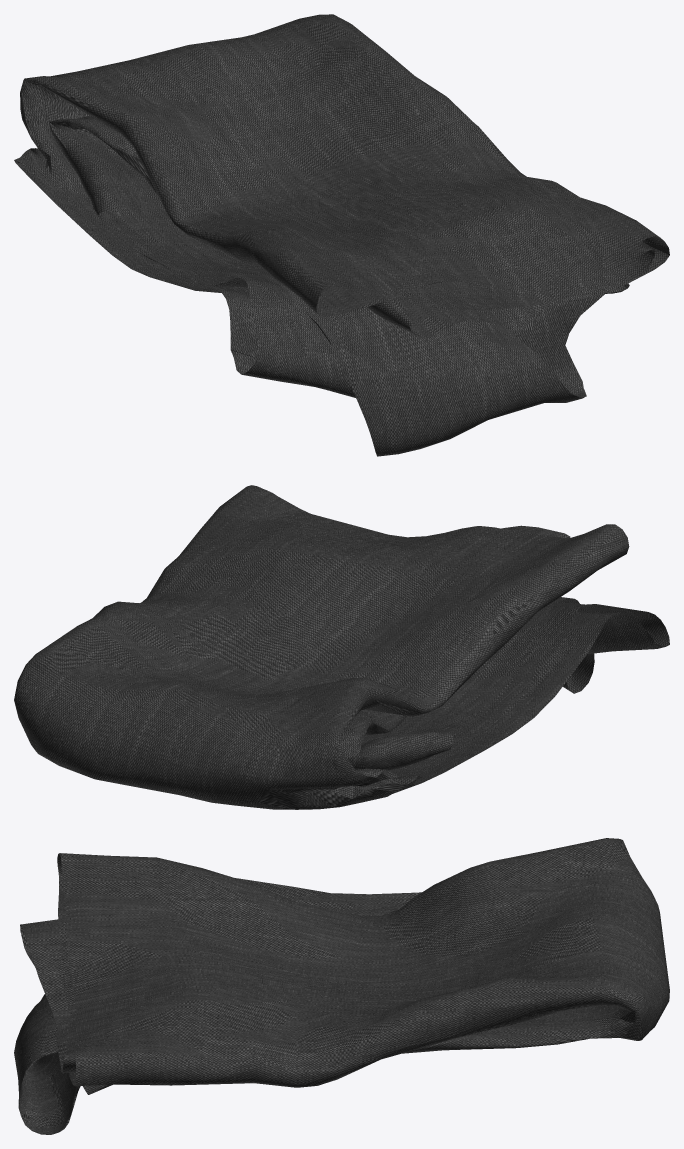
The model's file is Folded clothes 5.FBX.
3 views of the same model, one above another, from view 1: azimuth 30°, elevation 25°; view 2: azimuth 150°, elevation 25°; view 3: azimuth 270°, elevation 25° (orthographic). The views are drawn at different scales.
Parts seen in each view (by area): view 1: Folded clothes 5; view 2: Folded clothes 5; view 3: Folded clothes 5.
Part boxes in pixels (bbox=[...]): Folded clothes 5: bbox=[14, 14, 669, 456]; Folded clothes 5: bbox=[14, 485, 669, 809]; Folded clothes 5: bbox=[14, 838, 669, 1134].
Size of the model in its own units: 30.21 by 12.69 by 41.16.
Materials: 1 (1 with a texture image).
